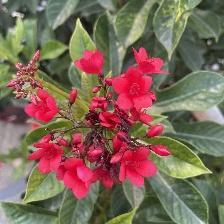jatropha: (109, 68, 161, 115), (119, 144, 159, 188), (58, 156, 97, 200), (24, 91, 63, 126), (132, 45, 172, 78), (29, 139, 66, 172), (73, 47, 106, 79)
